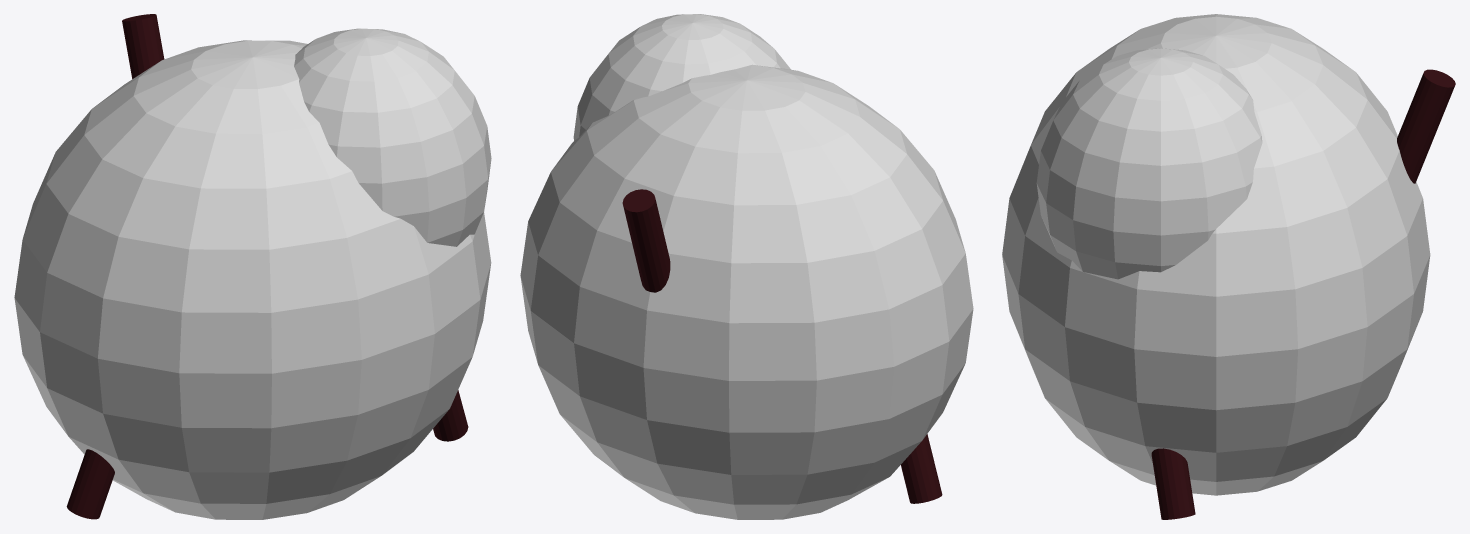
Rendered from pulsing-mass.71b526f3.glb.
3 views of the same model, side by side, from view 1: azimuth 30°, elevation 25°; view 2: azimuth 150°, elevation 25°; view 3: azimuth 270°, elevation 25° (orthographic). The views are drawn at different scales.
Visible parts, largest first — view 1: accent, body; view 2: accent, body; view 3: accent, body.
Boxes of the visible parts, bbox=[...] form: accent: bbox=[14, 28, 491, 519]; body: bbox=[66, 14, 468, 519]; accent: bbox=[520, 14, 973, 519]; body: bbox=[622, 189, 942, 503]; accent: bbox=[1002, 14, 1430, 495]; body: bbox=[1151, 69, 1455, 519].
Bounding box in the file's own units: 0.7 × 0.73 × 0.6569.
